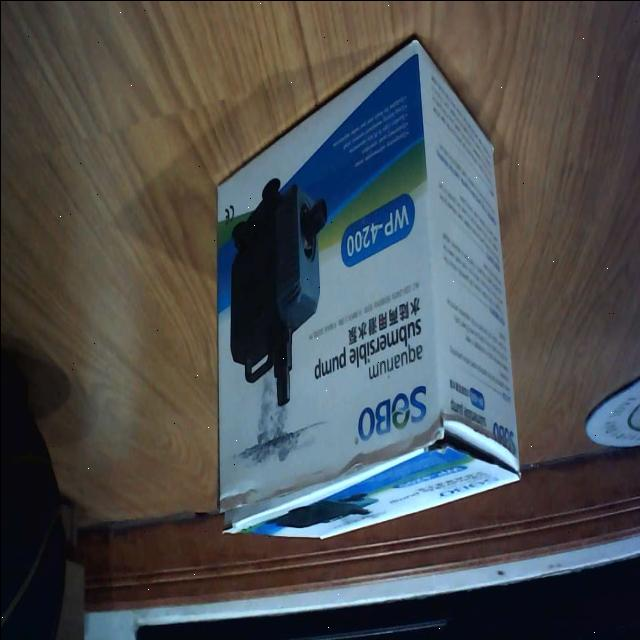SOBO_WP_4200: (207, 29, 528, 552)
